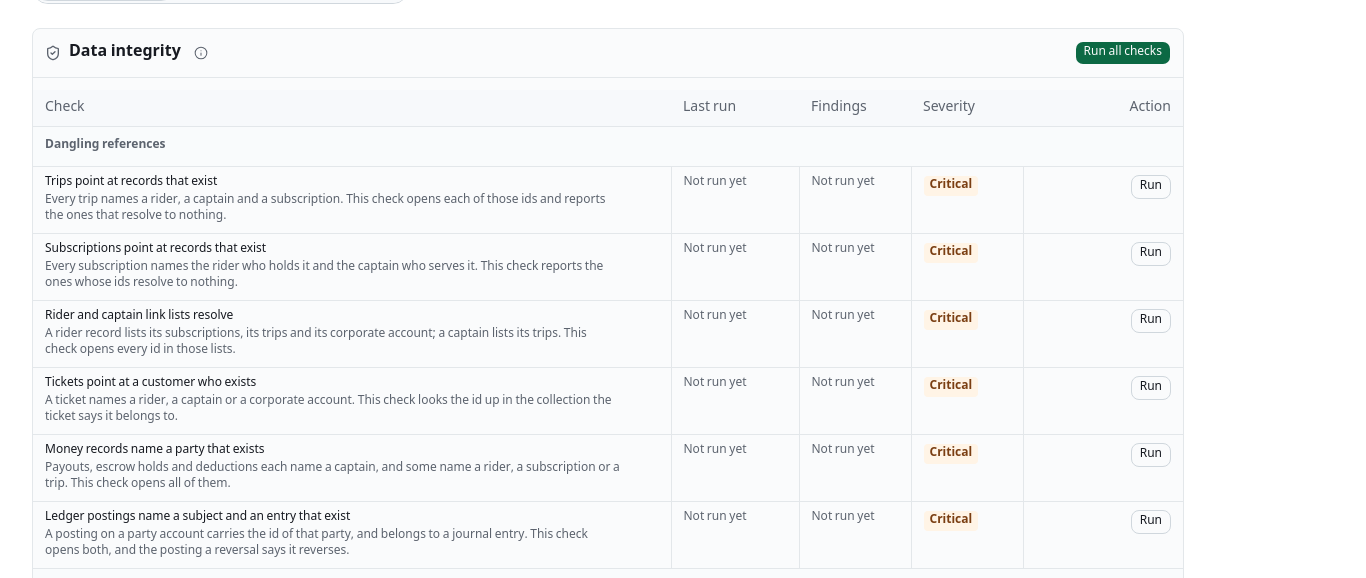
the integrity pane — the four states › renders findings after an explicit run
What coordinates should you click on to do the following:
click the button "Run all checks"
I would click on:
 (1123, 53)
Its box is [1075,41,1171,65].
(page scrolled)
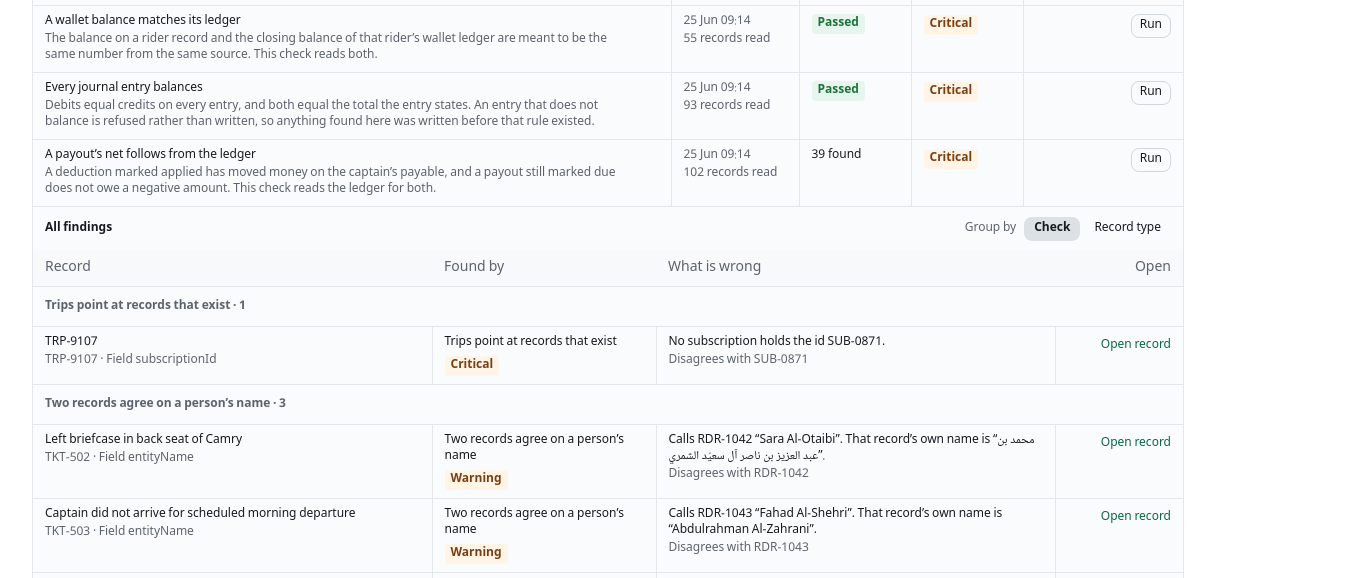
Now the heading "All findings" is shown, box [45,220,112,236]
